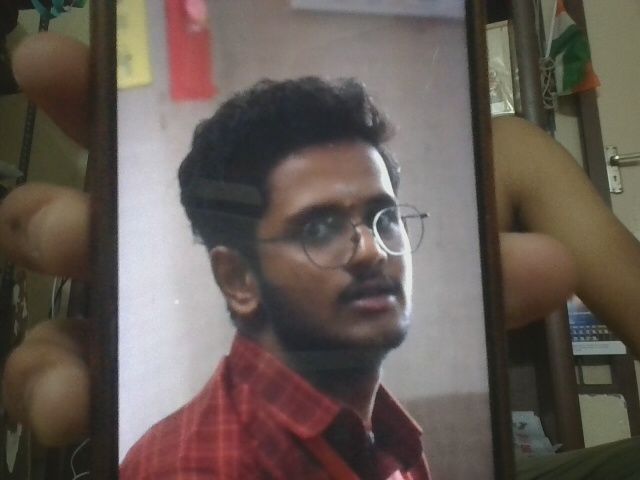fake: (258, 141, 463, 346)
